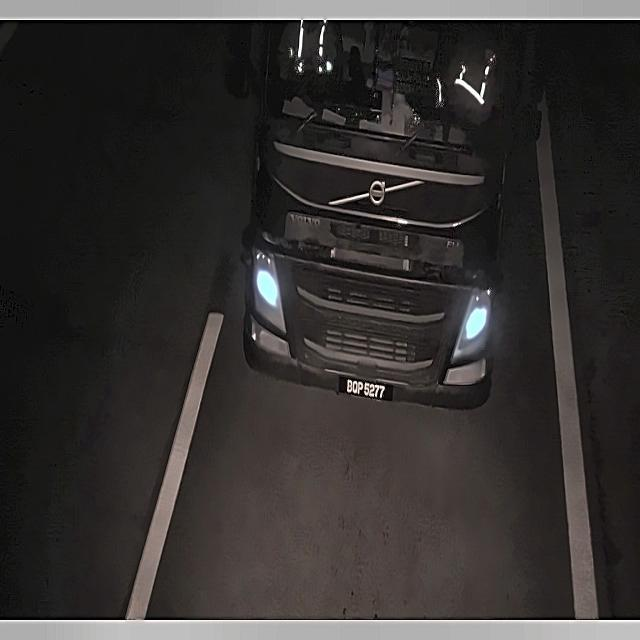car: (332, 370, 400, 410)
